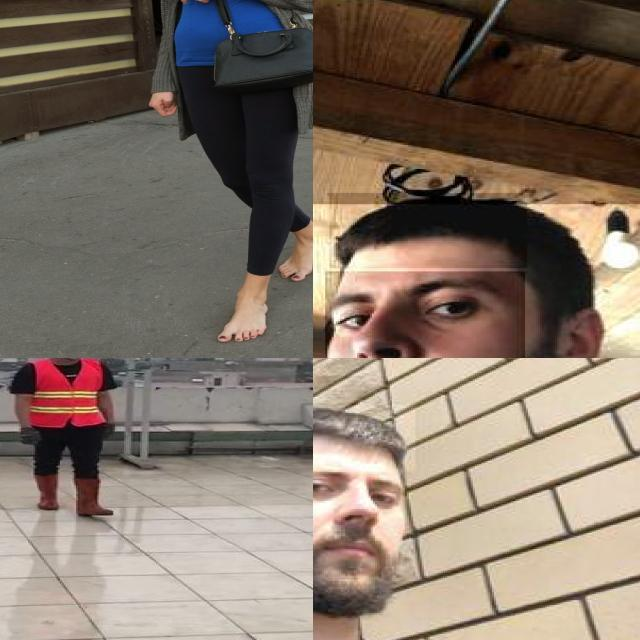Barefoots: (218, 296, 268, 342), (278, 227, 313, 281)
No_Ear-Protection: (546, 301, 609, 358)
boots: (73, 476, 114, 516), (32, 472, 62, 509)
face_nomask: (325, 271, 525, 358), (313, 454, 406, 616)
head_nohelmet: (330, 193, 527, 268), (313, 405, 417, 472)
person: (313, 204, 640, 358), (7, 358, 126, 522)
vest: (32, 359, 104, 427)
